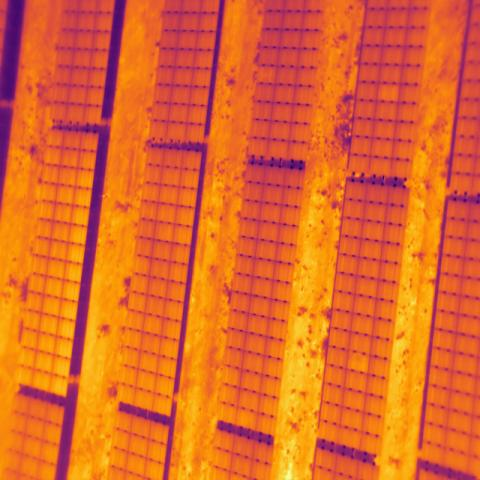fault: (346, 350, 371, 375), (376, 82, 401, 104), (256, 64, 279, 85)
